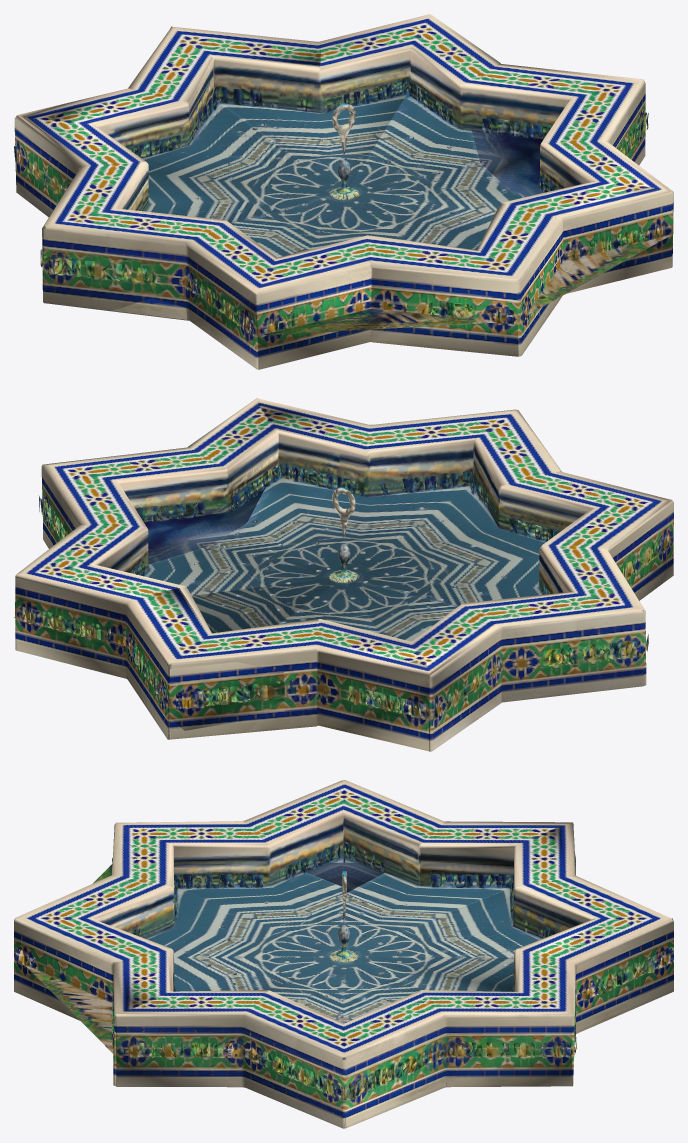
Rendered from Meshy_AI_Eight_Point_Star_Mosa_0721143512_texture.fbx.
3 views of the same model, one above another, from view 1: azimuth 30°, elevation 25°; view 2: azimuth 150°, elevation 25°; view 3: azimuth 270°, elevation 25° (orthographic). The views are drawn at different scales.
Visible parts, largest first — view 1: mesh_node; view 2: mesh_node; view 3: mesh_node.
Boxes of the visible parts, left/top/right/bottom form: mesh_node: left=14, top=14, right=673, bottom=369; mesh_node: left=14, top=398, right=673, bottom=751; mesh_node: left=14, top=780, right=673, bottom=1128.
Size of the model in its own units: 100 by 20.12 by 100.
Materials: 1 (1 with a texture image).
